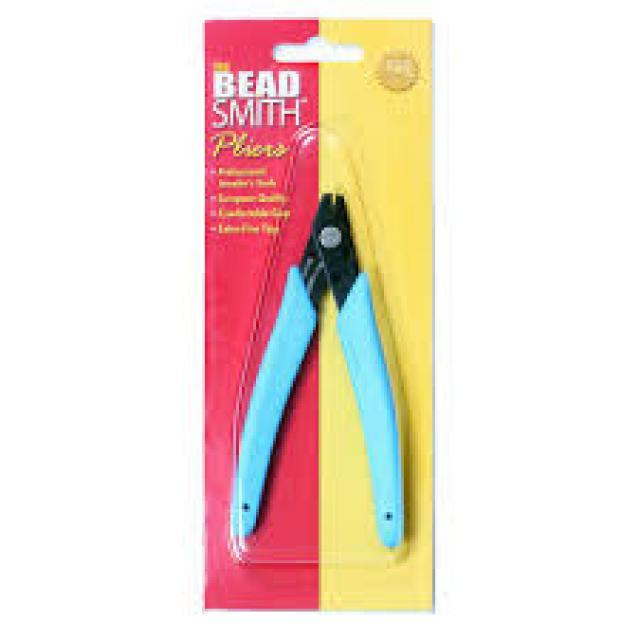pliers: (238, 191, 416, 516)
